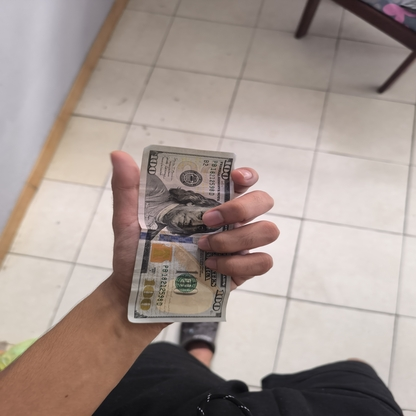one_hundred-front: (124, 145, 238, 329)
